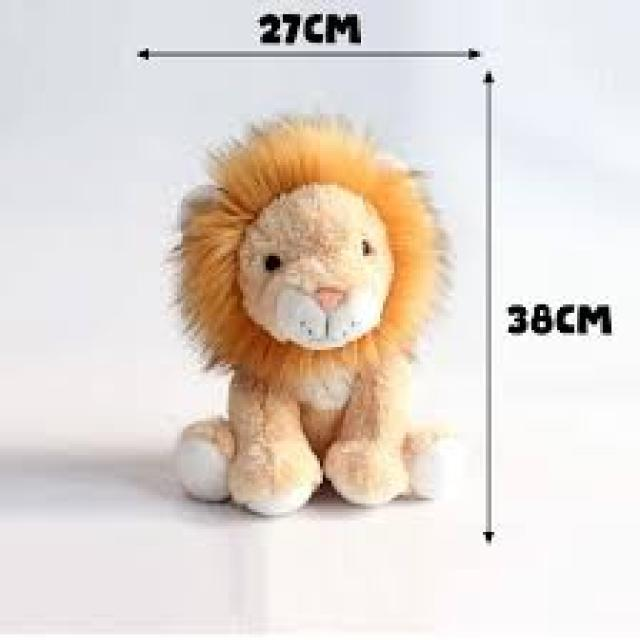soft-toy: (179, 119, 442, 515)
